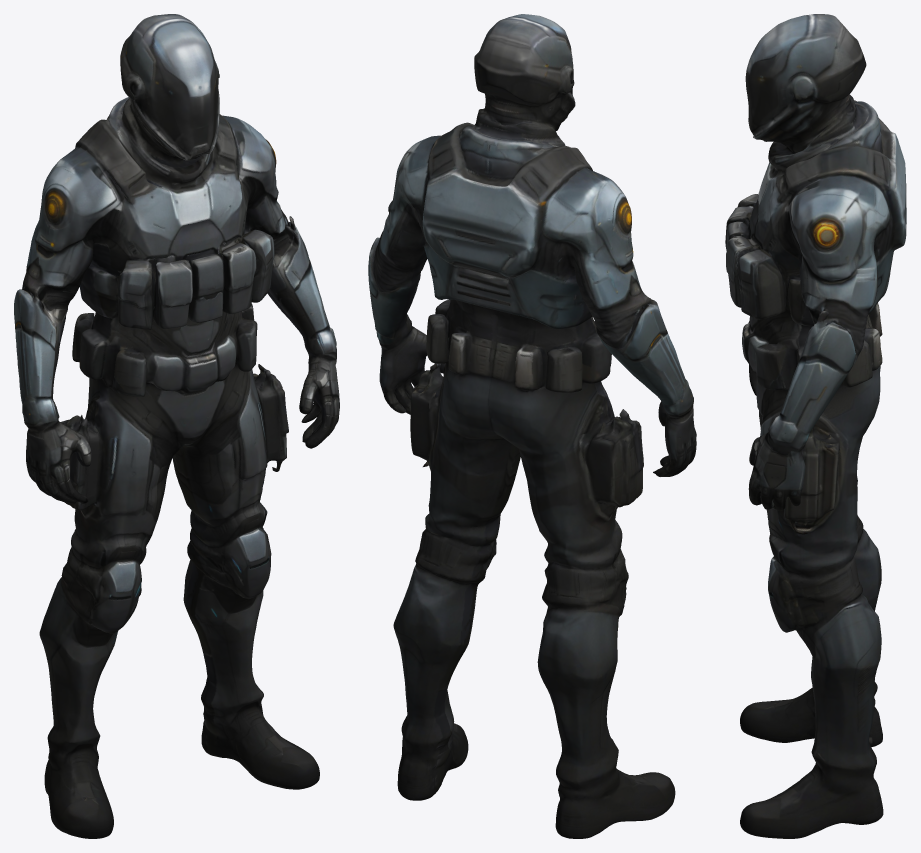
Rendered from meshy_raider.glb.
3 renders of one model, left to right at view 1: azimuth 30°, elevation 25°; view 2: azimuth 150°, elevation 25°; view 3: azimuth 270°, elevation 25°, orthographic.
Bounding box in the file's own units: 0.8352 × 2 × 0.4284.
1 material, 1 textured.
